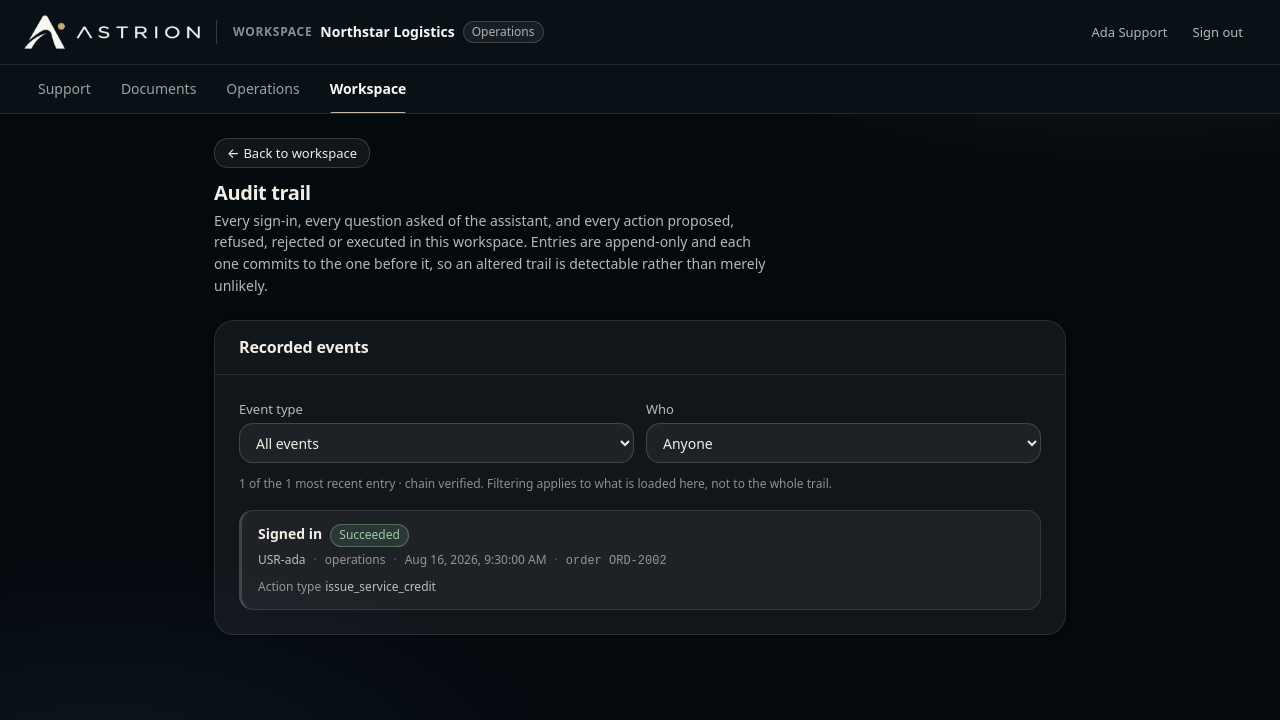
Scenario: the audit trail › says so when a filter matches nothing
This screenshot has width=1280, height=720.
Expected: the text "Signed in" is shown, x1=258 y1=523 x2=322 y2=545
Select "Actions" in the dropdown labelled "Event type" at x=436, y=443, box x1=239 y1=423 x2=634 y2=463
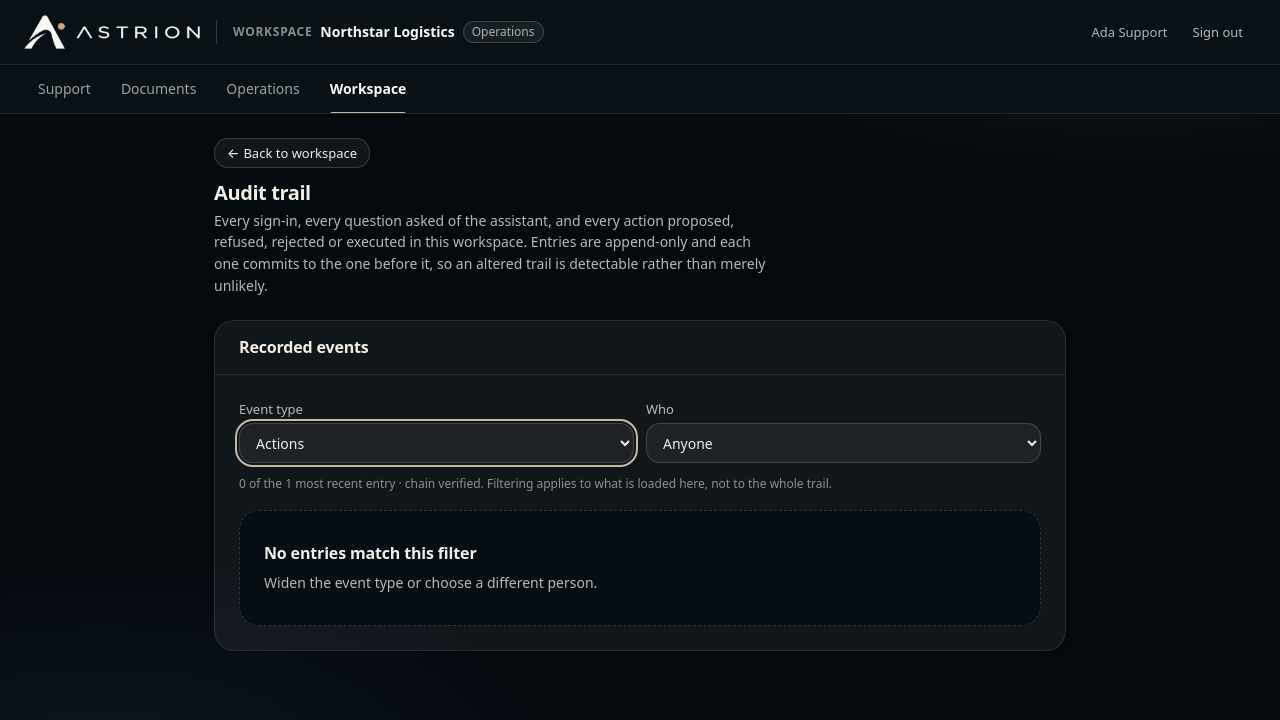
Result: the heading "No entries match this filter" is shown at x1=264 y1=543 x2=476 y2=564
